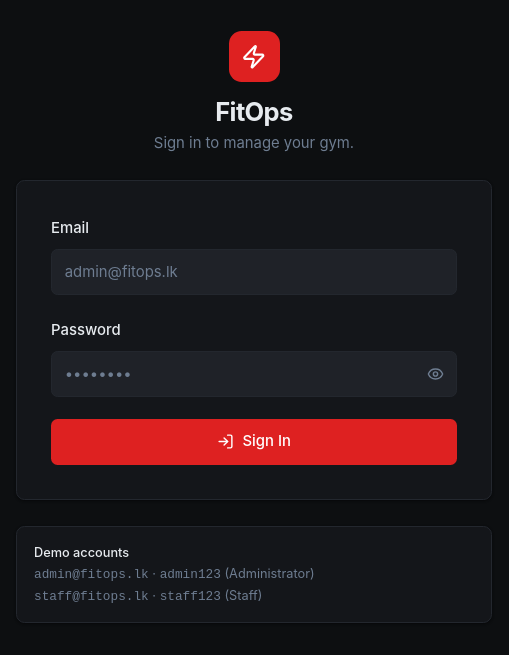
Test: Login › validates the email field
Step 1. Type "not-an-email" into the field labelled "Email" → x=254, y=272, box [51,248,457,295]
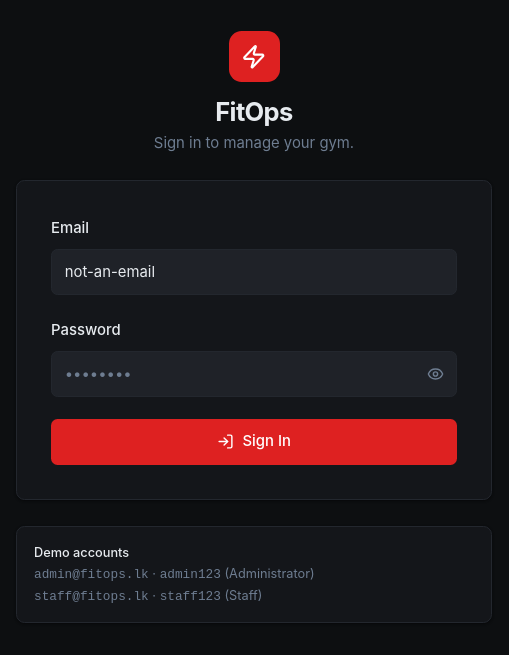
Step 2. Type "admin123" into the password field labelled "Password" → x=254, y=374, box [51,350,457,397]
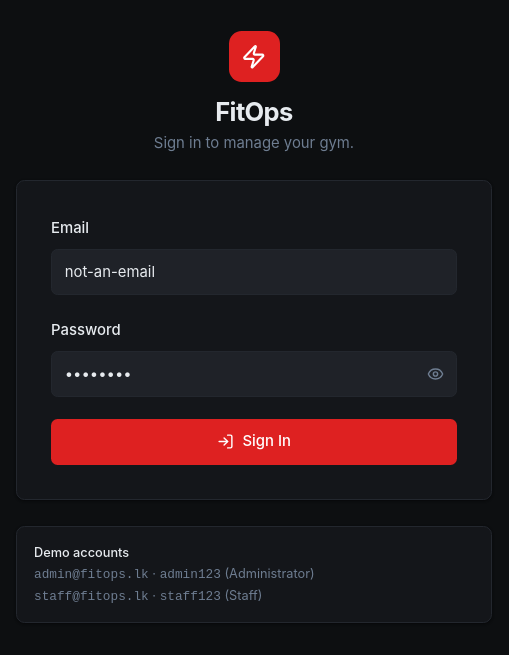
Step 3. Click the button "Sign In" → x=254, y=442, box [51,418,457,465]
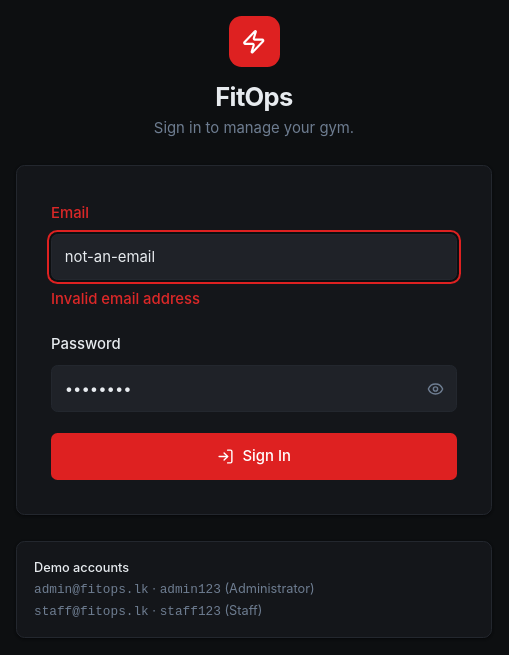
Expected: the text "Invalid email address" is shown, [51,290,200,308]
